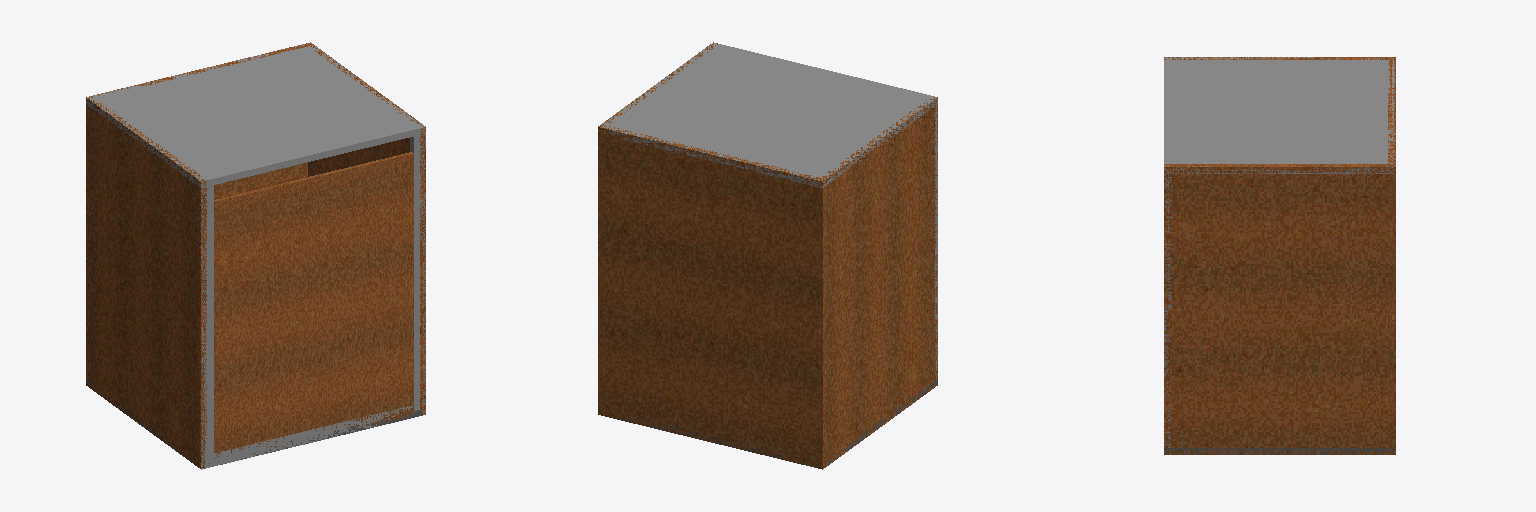
The picture shows the model from 3 angles: view 1: azimuth 30°, elevation 25°; view 2: azimuth 150°, elevation 25°; view 3: azimuth 270°, elevation 25°; orthographic projection.
Parts seen in each view (by area): view 1: Wall_Left, Ceiling, Door_R, Door_L, Wall_Right, Frame_Left, Wall_Back, Frame_Right, Frame_Top, Floor; view 2: Wall_Back, Wall_Left, Ceiling, Wall_Right, Floor; view 3: Wall_Right, Ceiling, Wall_Back, Floor.
Part boxes in pixels (x1,y1,x2,y2): Wall_Left: (86, 98, 206, 468); Ceiling: (86, 43, 425, 187); Door_R: (312, 152, 413, 432); Door_L: (214, 176, 313, 461); Wall_Right: (305, 44, 425, 415); Frame_Left: (198, 179, 213, 469); Wall_Back: (86, 42, 313, 386); Frame_Right: (410, 128, 425, 414); Frame_Top: (214, 405, 412, 465); Floor: (86, 380, 424, 468); Wall_Back: (598, 125, 825, 468); Wall_Left: (817, 97, 937, 469); Ceiling: (599, 43, 937, 187); Wall_Right: (598, 42, 717, 415); Floor: (610, 380, 937, 468); Wall_Right: (1164, 164, 1395, 454); Ceiling: (1164, 57, 1395, 173); Wall_Back: (1388, 57, 1395, 454); Floor: (1164, 448, 1395, 454).
Bounding box in the file's own units: 1.8 × 2.2 × 1.6.
4 materials, 2 textured.